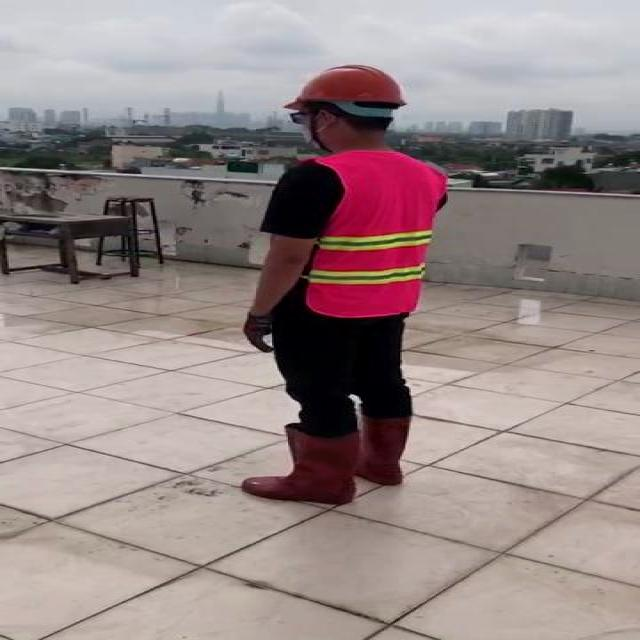boots: (243, 429, 361, 504), (348, 417, 411, 485)
hand_glove: (242, 314, 276, 352)
head_helmet: (279, 59, 404, 110)
person: (222, 51, 459, 507)
vest: (302, 151, 443, 316)
